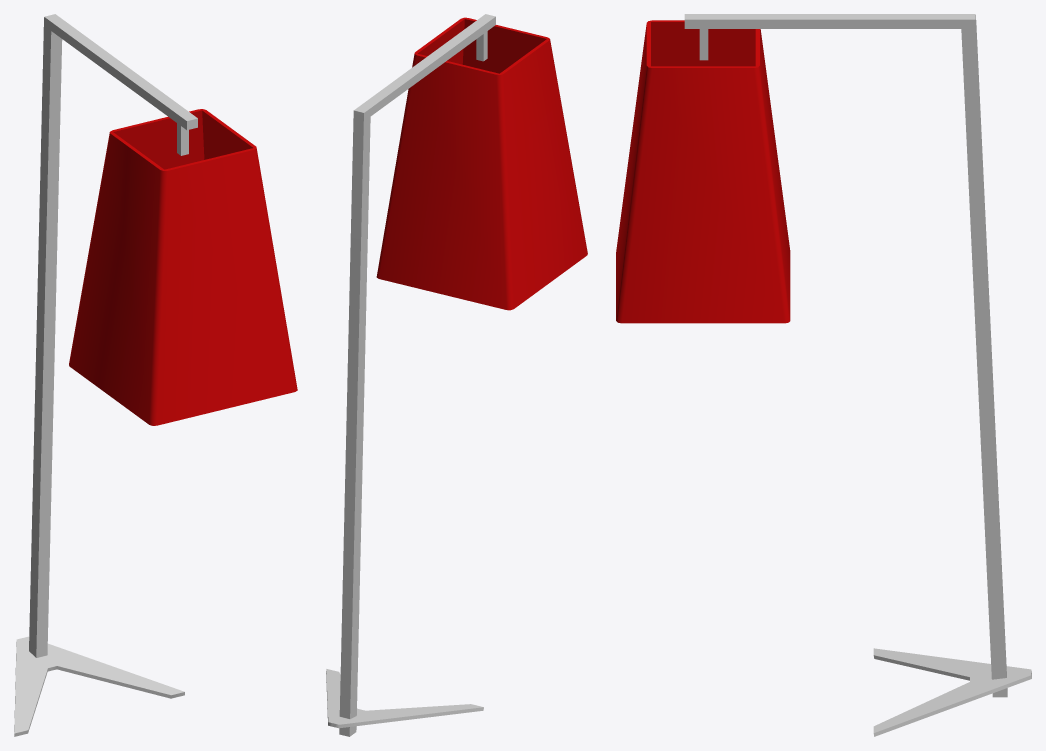
Rendered from Lamp_v2.fbx.
The picture shows the model from 3 angles, left to right: view 1: azimuth 30°, elevation 25°; view 2: azimuth 150°, elevation 25°; view 3: azimuth 270°, elevation 25°; orthographic projection. The views are drawn at different scales.
Parts seen in each view (by area): view 1: Lamp_v2; view 2: Lamp_v2; view 3: Lamp_v2.
Part boxes in pixels (x1,y1,x2,y2): Lamp_v2: (14,14,297,736); Lamp_v2: (326,14,587,736); Lamp_v2: (616,14,1031,736).
Bounding box in the file's own units: 53.26 × 198 × 110.
